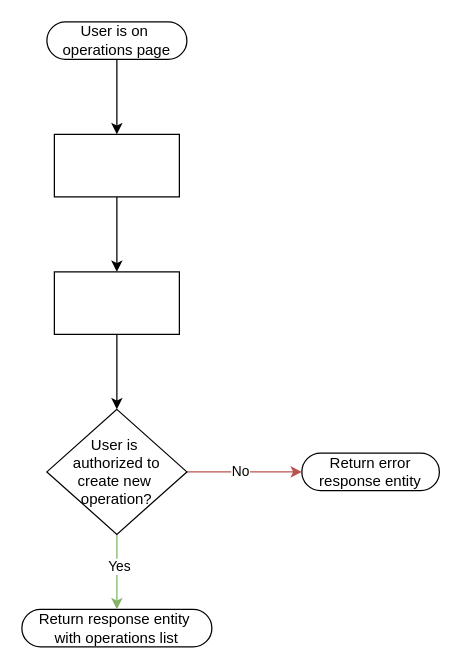
Some shapes in this 461 by 669 pixel diagram are drawn without their labels. The centre of each missing label's shape, as x and y in pixels:
"Get Authorization token from header" goes at point 116,165.
"Get User from token" goes at point 116,302.
